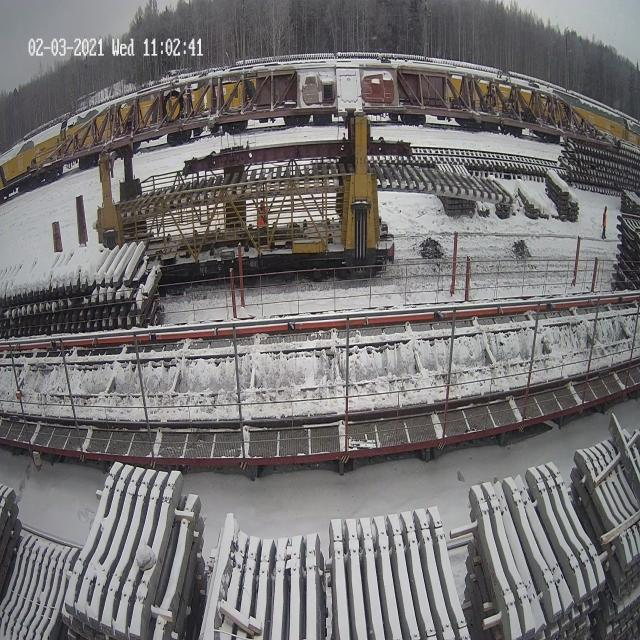Person: (249, 202, 275, 231), (601, 205, 607, 239)
